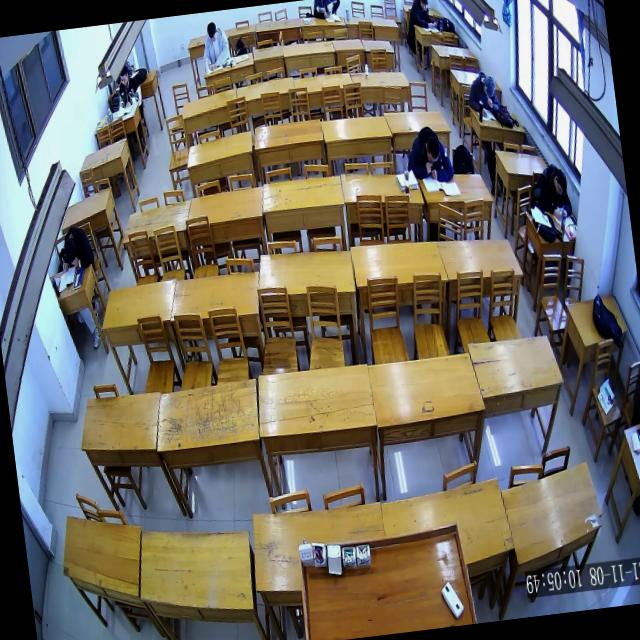bow: (402, 122, 454, 185), (57, 224, 95, 273)
down: (424, 134, 441, 164), (552, 168, 568, 195), (63, 237, 77, 263), (205, 20, 218, 42), (118, 66, 130, 85), (418, 0, 429, 12)
sit: (529, 161, 573, 222), (198, 21, 232, 72), (114, 66, 142, 110), (408, 0, 437, 31)
